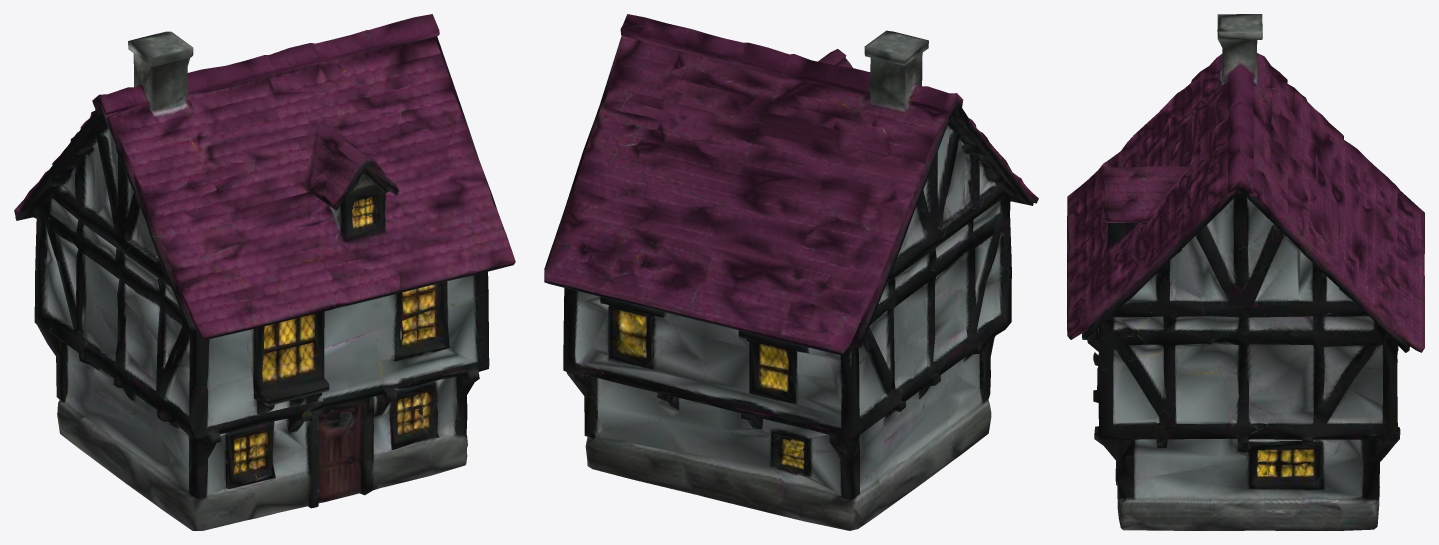
Rendered from purple-house.glb.
3 renders of one model, left to right at view 1: azimuth 30°, elevation 25°; view 2: azimuth 150°, elevation 25°; view 3: azimuth 270°, elevation 25°, orthographic. The views are drawn at different scales.
Size of the model in its own units: 1.53 by 1.9 by 1.54.
Materials: 1 (1 with a texture image).
